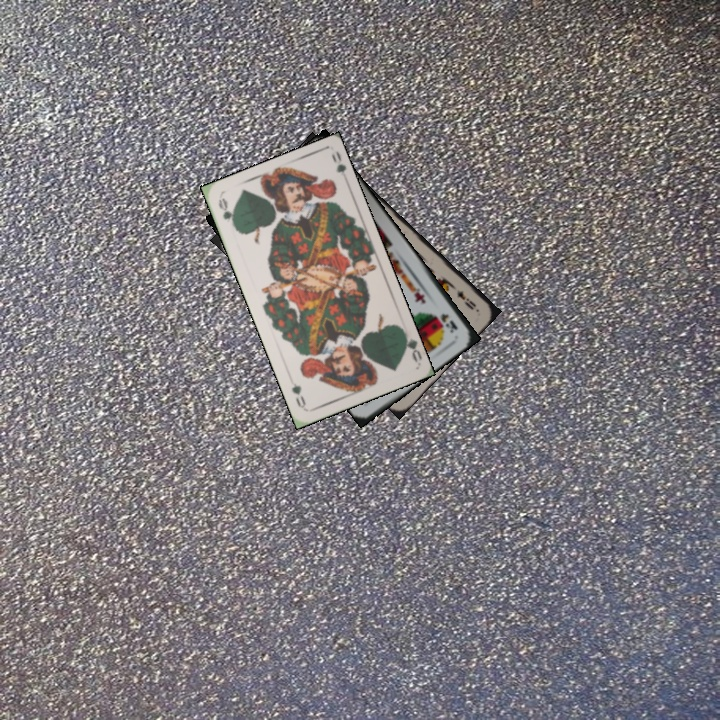E9: (453, 285, 479, 313)
GO: (214, 194, 239, 232), (399, 326, 423, 364)
SK: (437, 309, 460, 336)
